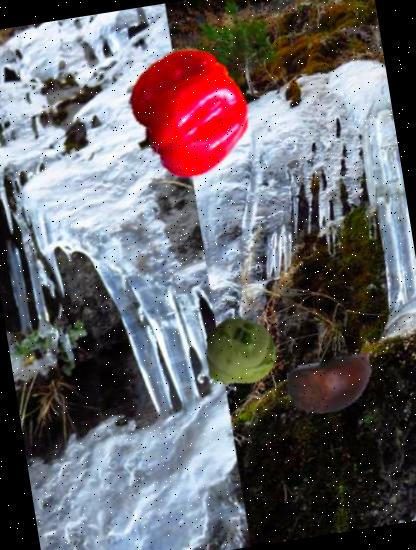Chestnut: (281, 334, 384, 438)
Kohlrabi: (195, 312, 282, 399)
Pepper: (116, 41, 260, 186)
